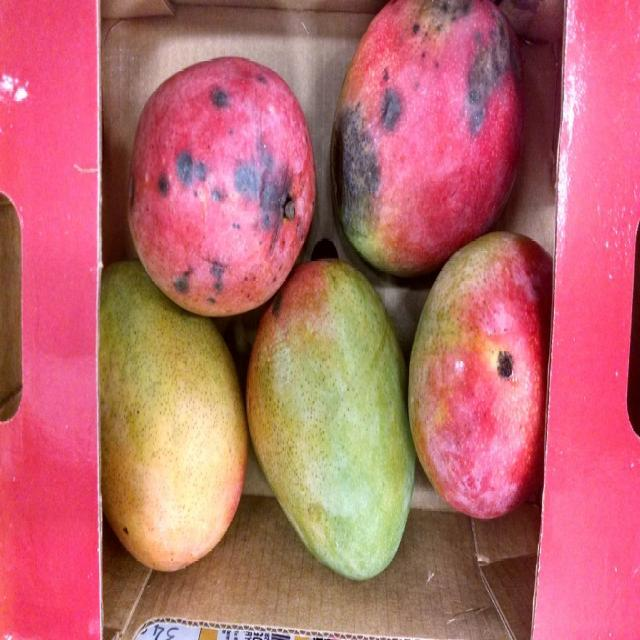Mango: (96, 0, 554, 581), (243, 260, 415, 584)
